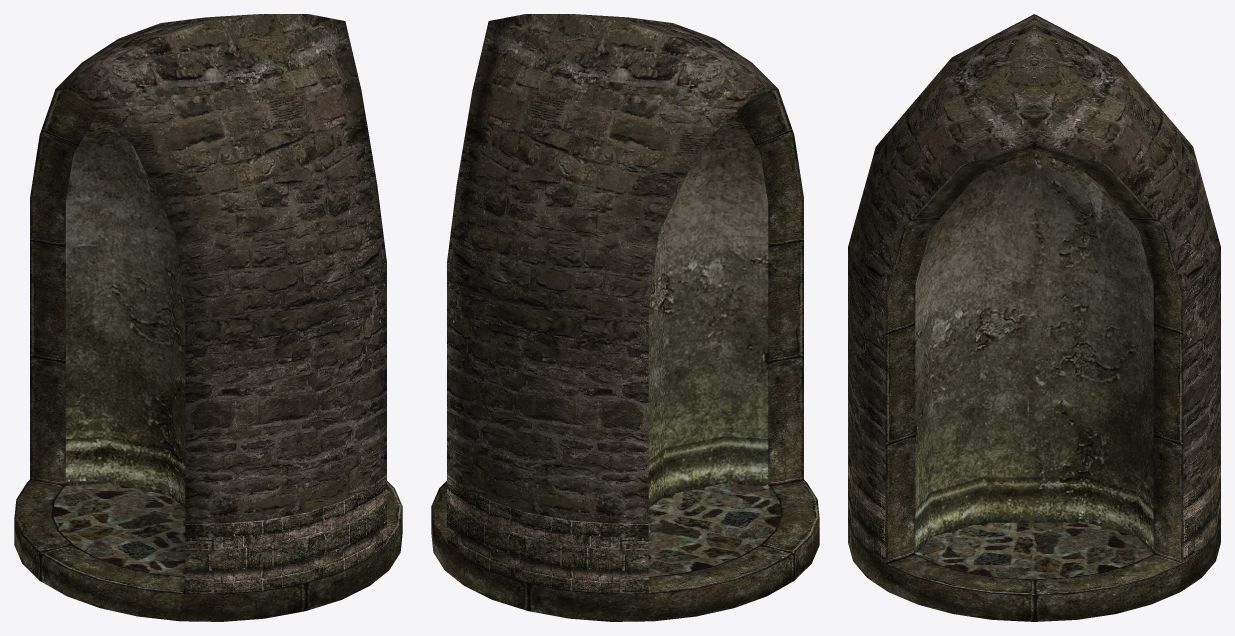
The model's file is EVT_CORNERROOMS_WHEELWALL_01.glb.
3 views of the same model, side by side, from view 1: azimuth 30°, elevation 25°; view 2: azimuth 150°, elevation 25°; view 3: azimuth 270°, elevation 25° (orthographic). The views are drawn at different scales.
Parts seen in each view (by area): view 1: Mesh; view 2: Mesh; view 3: Mesh.
Boxes of the visible parts, x1,y1,x2,y2 form: Mesh: (14, 14, 402, 621); Mesh: (431, 14, 819, 621); Mesh: (848, 14, 1220, 621).
Bounding box in the file's own units: 2.51 × 3.68 × 2.51.
Materials: 5 (5 with a texture image).
